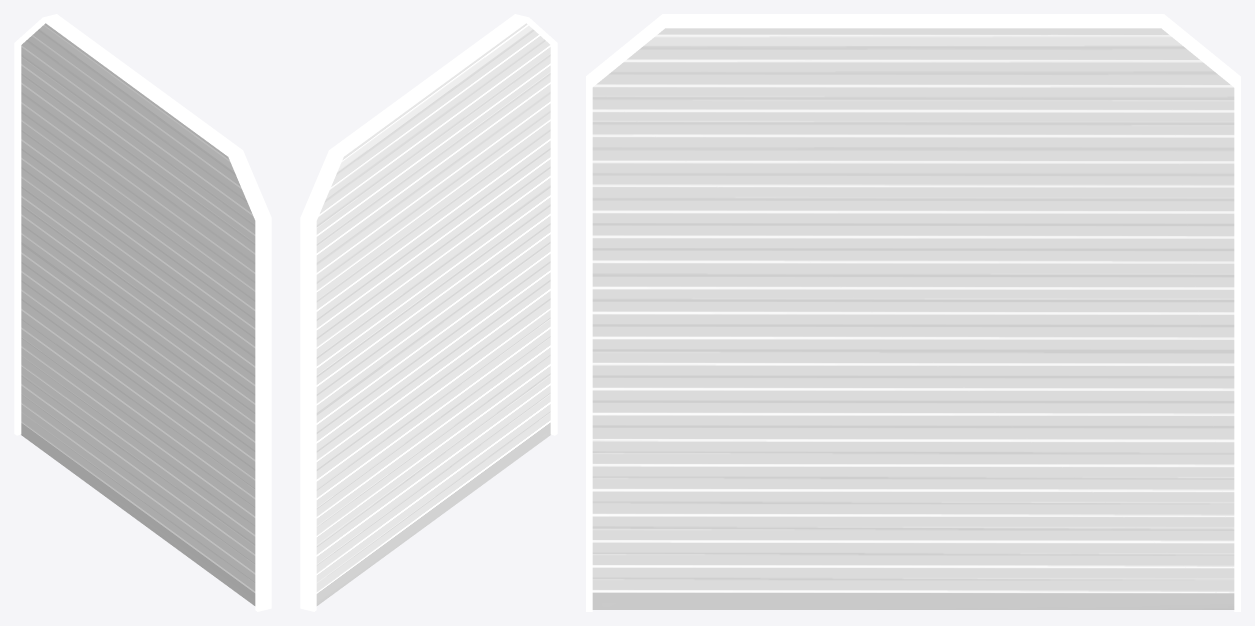
File: standard_trim_door_a.90fb8bda.gltf
The picture shows the model from 3 angles, left to right: view 1: azimuth 30°, elevation 25°; view 2: azimuth 150°, elevation 25°; view 3: azimuth 270°, elevation 25°; orthographic projection. The views are drawn at different scales.
Parts seen in each view (by area): view 1: doors, trims; view 2: doors, trims; view 3: doors, trims.
Part boxes in pixels (left/top/right/bottom): doors: left=21, top=23, right=255, bottom=605; trims: left=14, top=14, right=271, bottom=611; doors: left=316, top=23, right=550, bottom=605; trims: left=300, top=14, right=557, bottom=611; doors: left=592, top=28, right=1234, bottom=609; trims: left=586, top=14, right=1240, bottom=611.
Size of the model in its own units: 0.2 by 6.03 by 6.07.
Materials: 2 (1 with a texture image).
